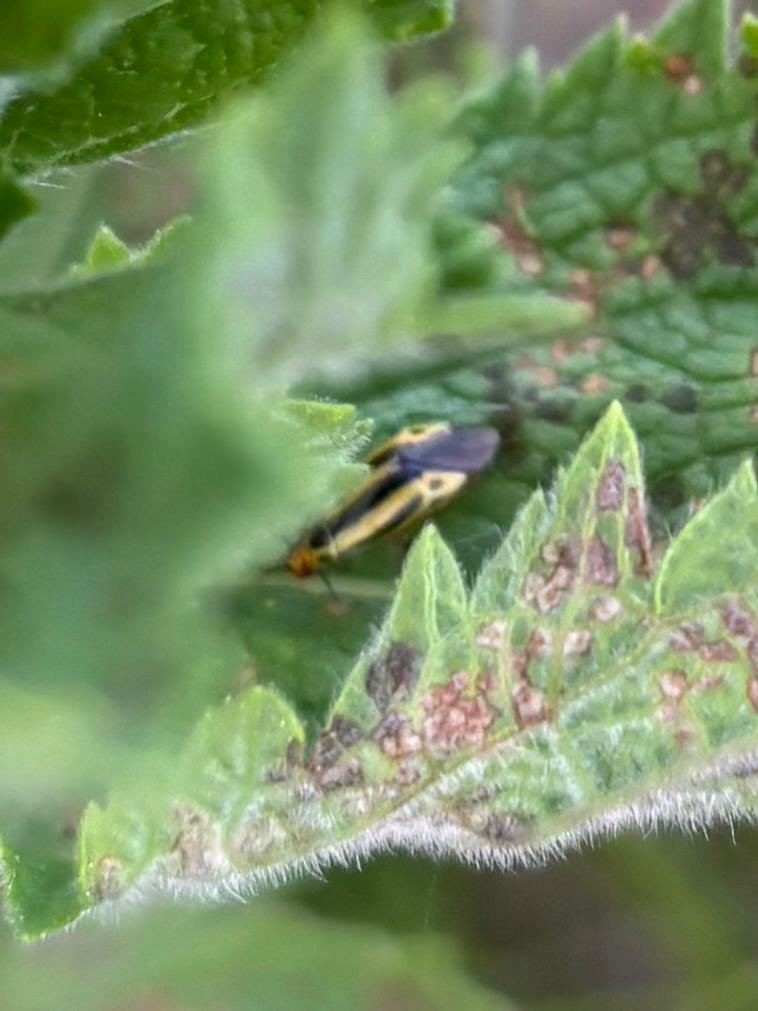plant_bugs: (196, 349, 579, 657)
